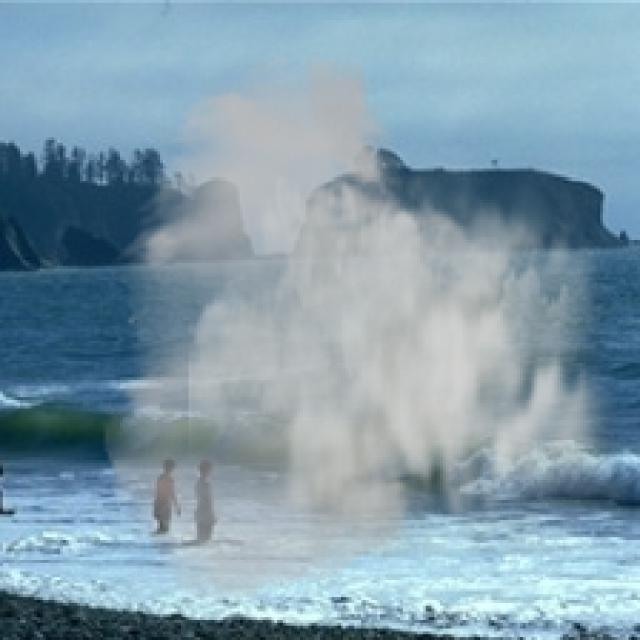Smoke: (100, 49, 634, 612)
